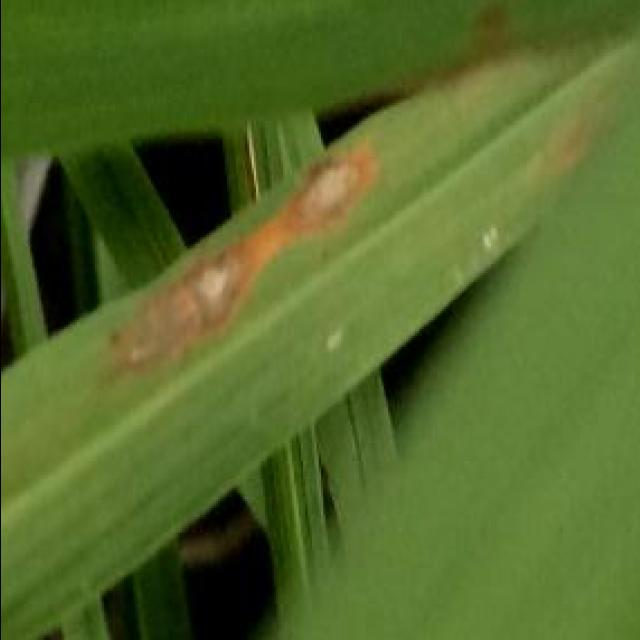Leaf_Blast: (110, 210, 276, 398), (286, 132, 409, 240)
